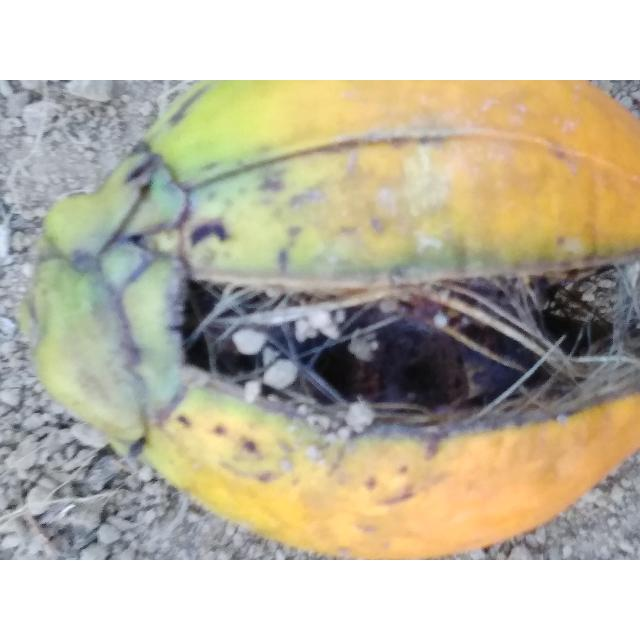damaged: (17, 80, 640, 560)
